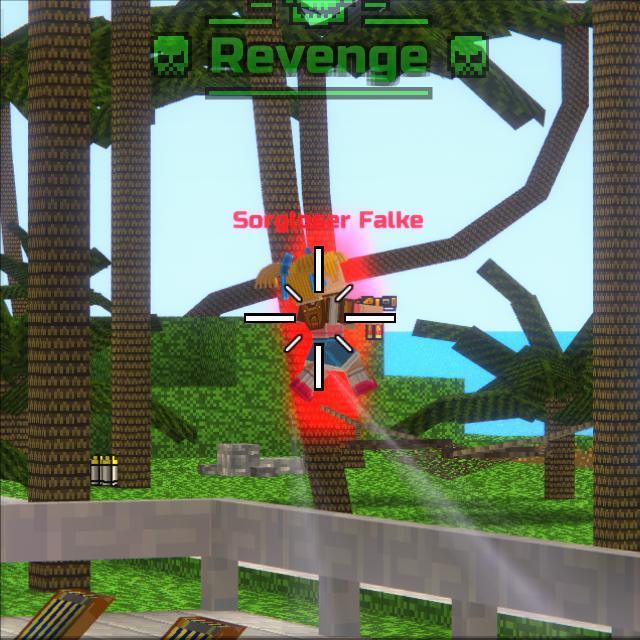Enemy: (288, 254, 385, 416)
